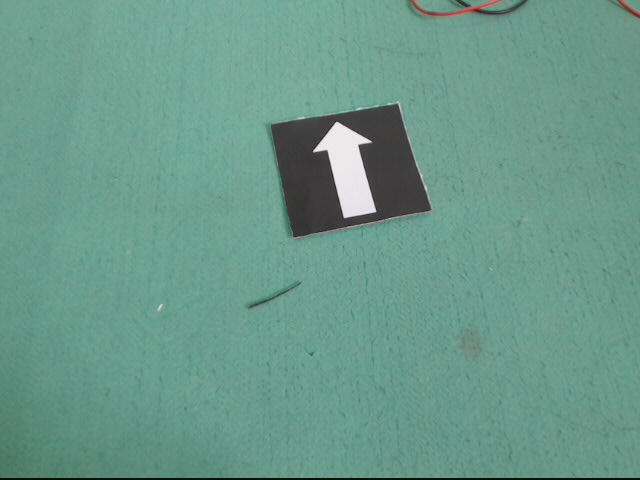straight: (267, 97, 431, 240)
